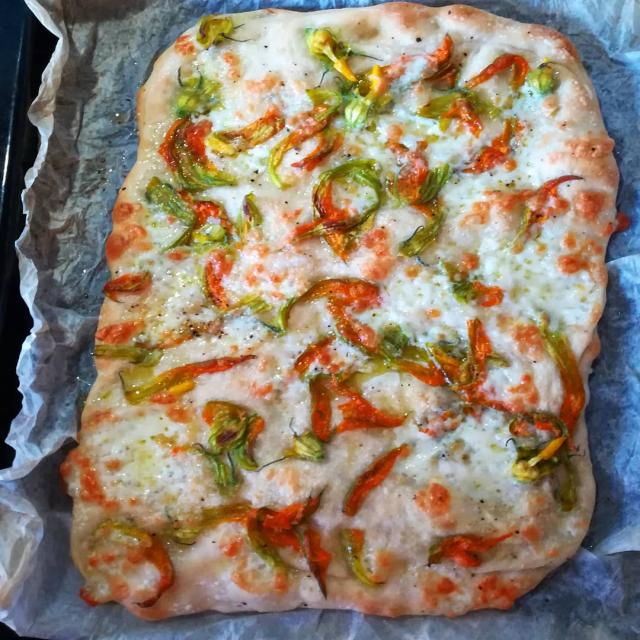pizza: (61, 0, 630, 623)
